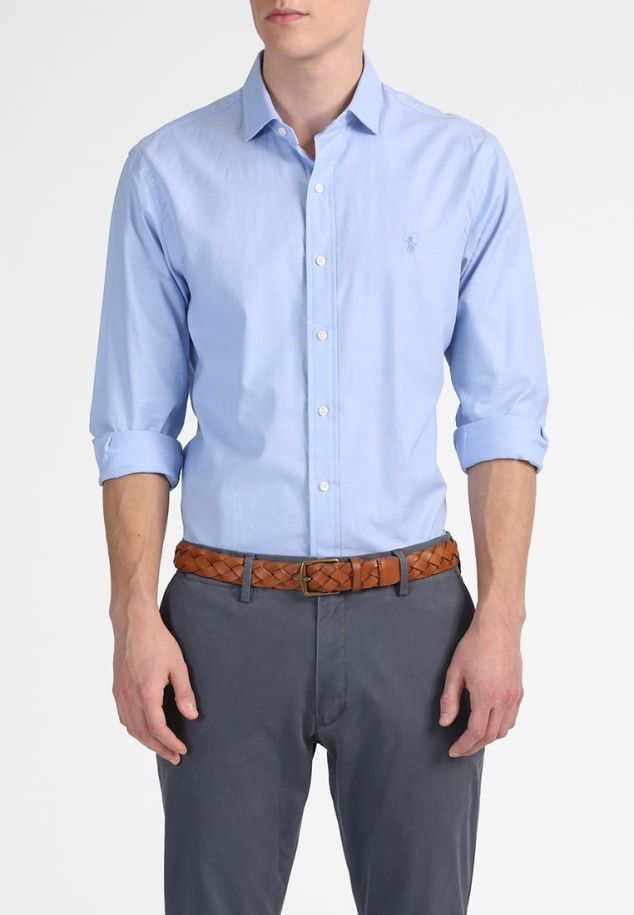F_belt: (161, 529, 475, 604)
F_dress pants: (139, 524, 484, 915)
F_shirt: (82, 61, 547, 565)
